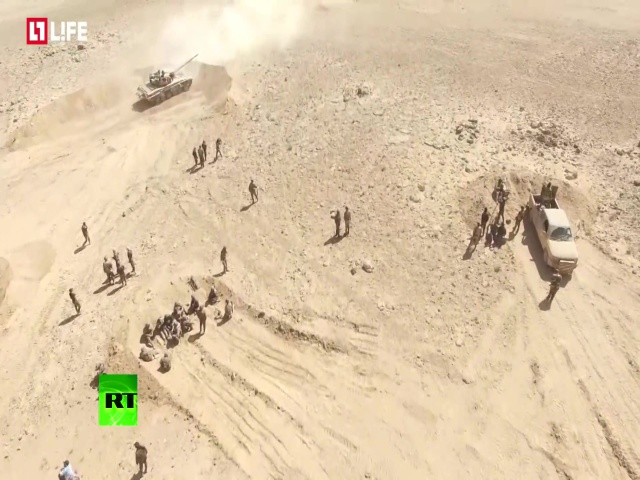person: (545, 265, 562, 306), (134, 440, 150, 478), (465, 221, 482, 253), (510, 205, 525, 235), (245, 178, 260, 207), (217, 243, 231, 274), (67, 287, 82, 315), (342, 206, 353, 235), (333, 209, 343, 240), (124, 247, 135, 275), (196, 305, 206, 335), (116, 262, 128, 287), (102, 254, 113, 281), (222, 298, 234, 322), (213, 136, 224, 161), (110, 249, 123, 270), (497, 195, 506, 225), (81, 221, 91, 248), (480, 207, 488, 234), (197, 145, 205, 168), (201, 139, 209, 161), (192, 146, 198, 166)
vehicle: (526, 183, 580, 277), (133, 62, 193, 105)
